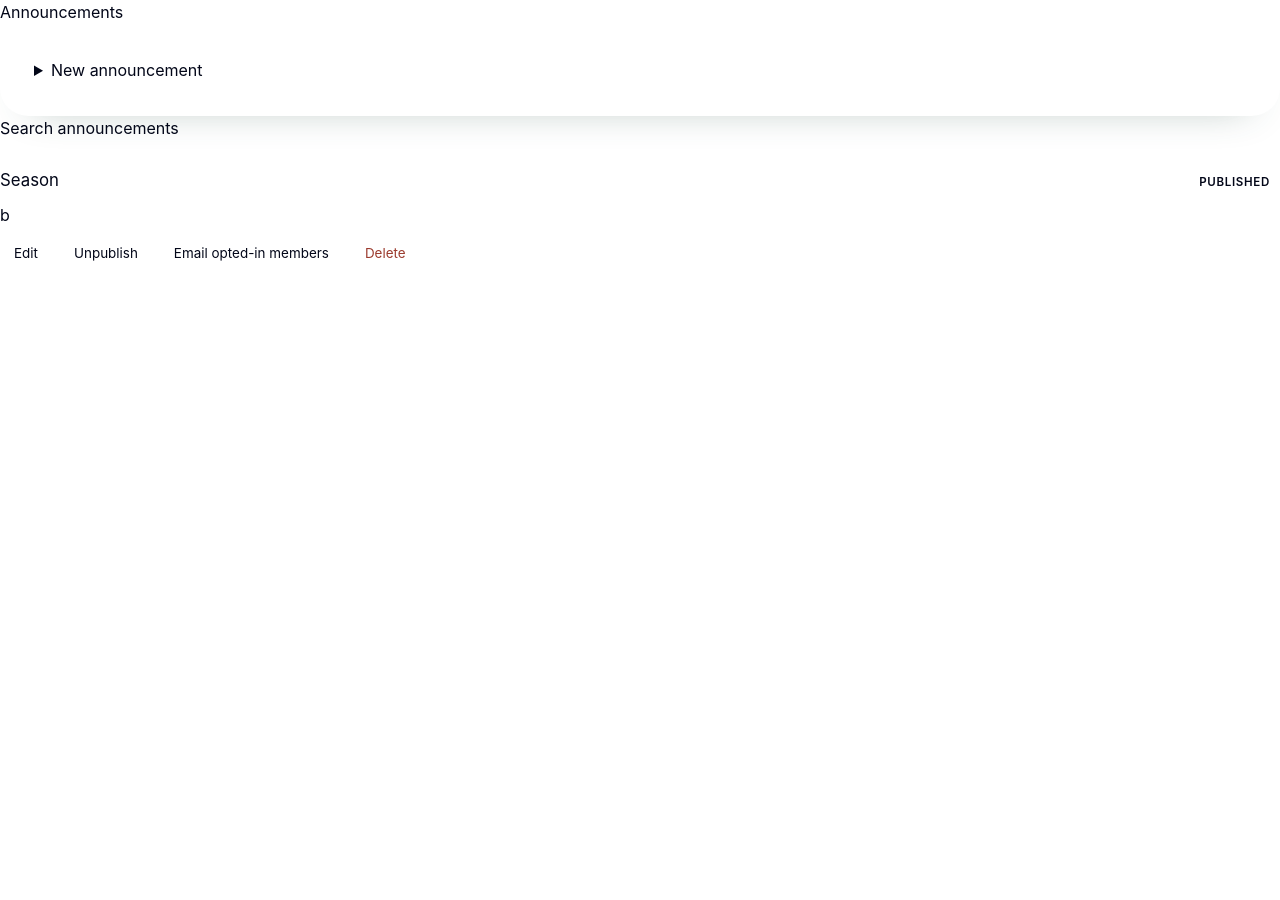
Test: admin dashboard › asks before emailing an announcement and reports the queued count
Click the button "Email opted-in members". click: {"x": 251, "y": 253}
box: [160,235,343,272]
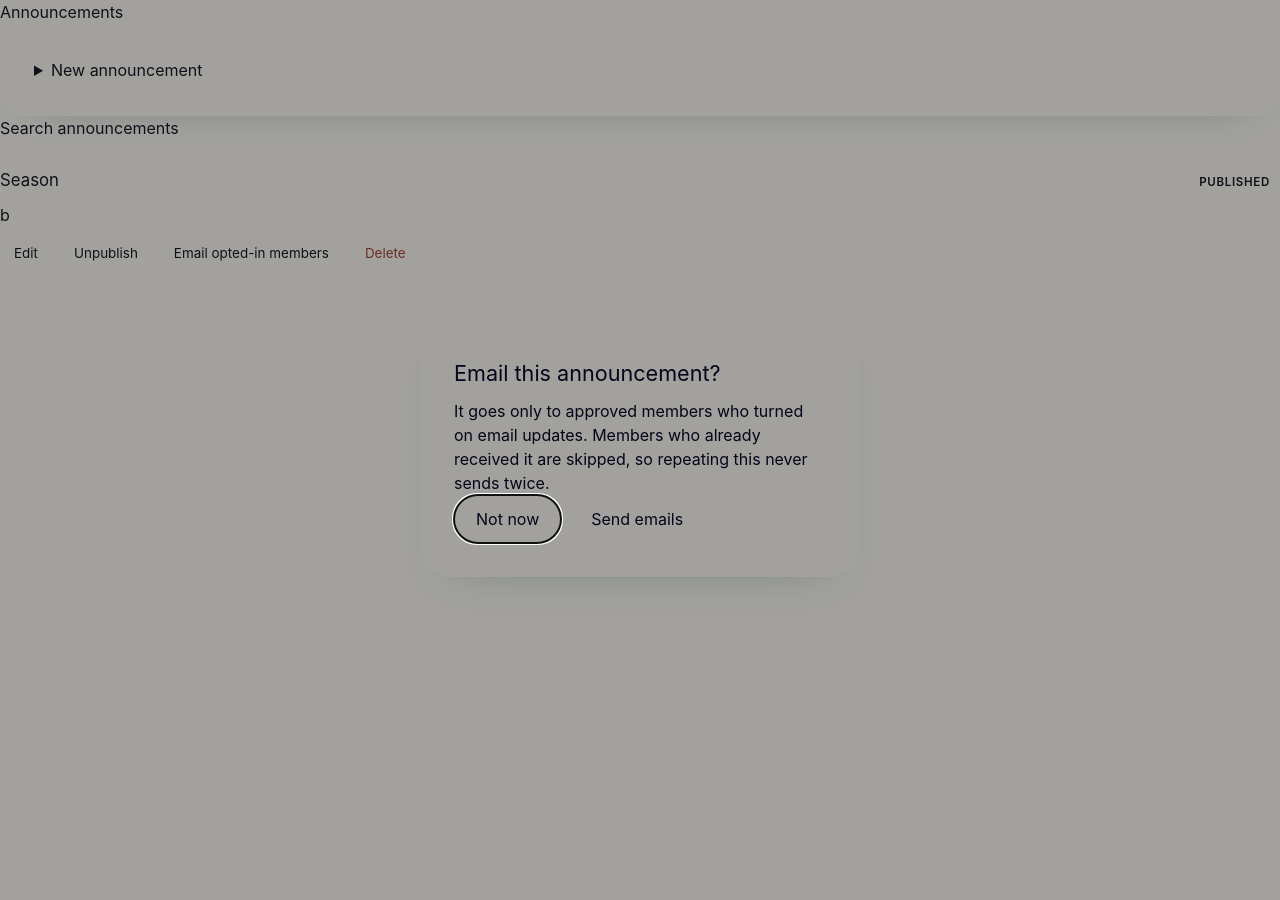
Expected: the dialog "Email this announcement?" shows "turned on email updates", [454,401,808,493]
Click the button "Send emails". click: {"x": 637, "y": 519}
box: [569,495,705,543]
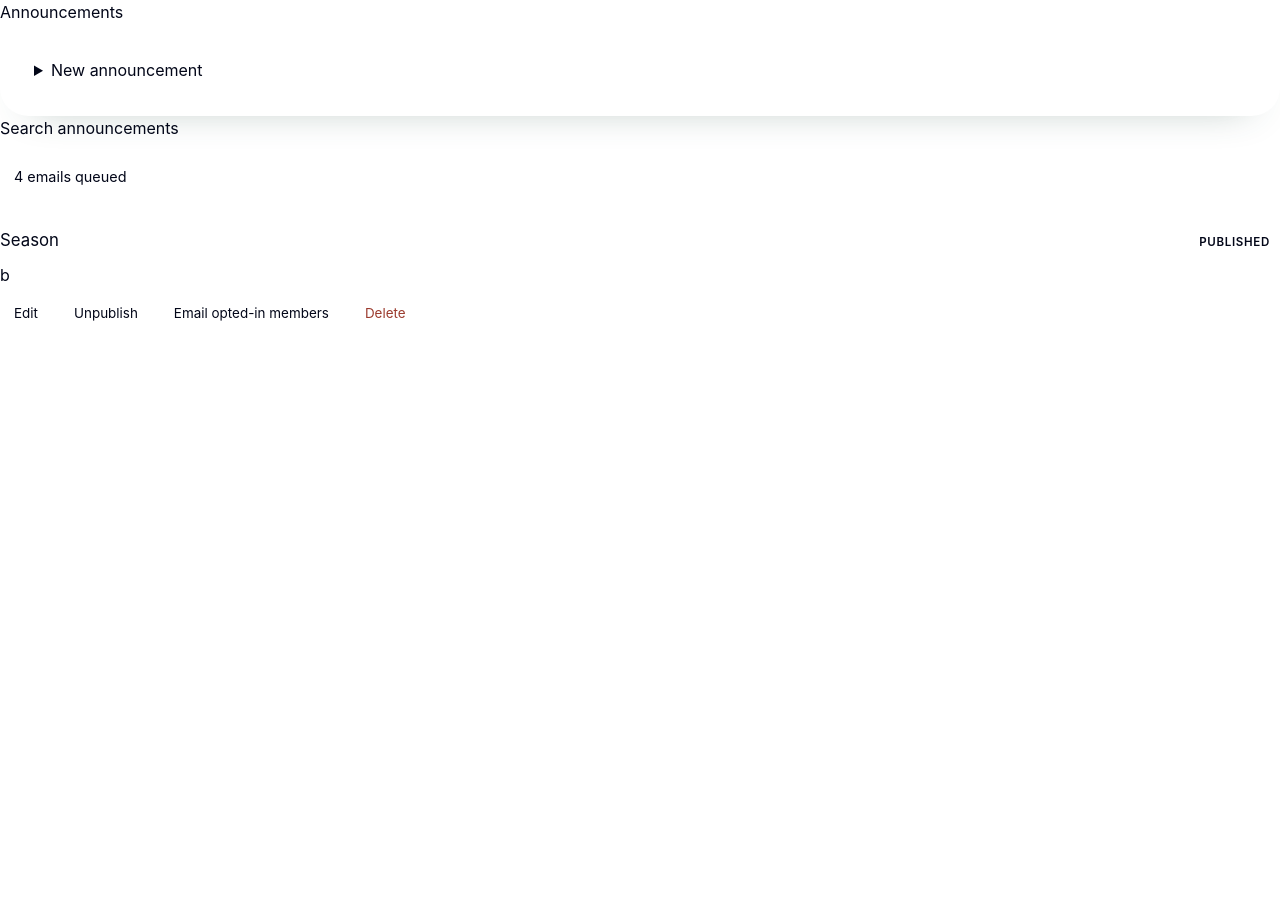
Expected: the text "4 emails queued" is shown, [14,168,126,185]
